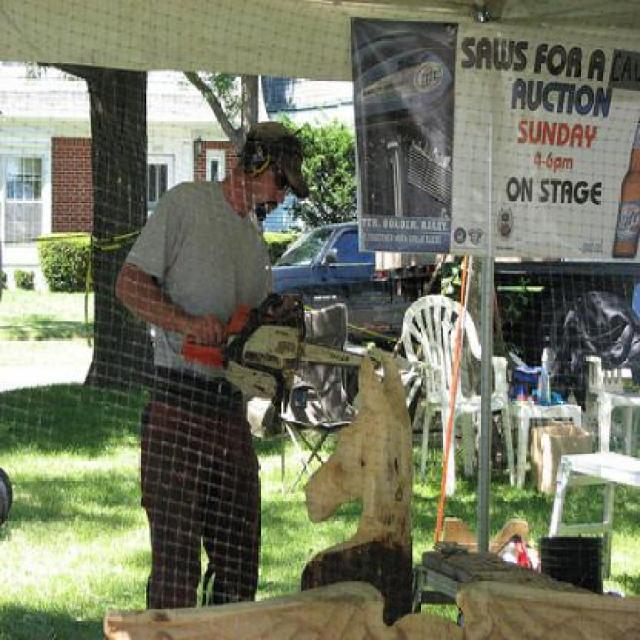Chainsaw: (180, 293, 365, 402)
